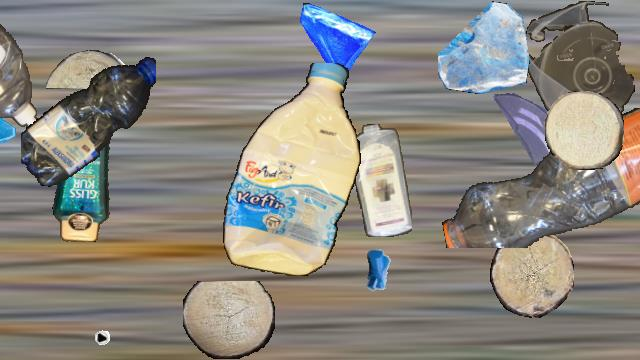glass: (438, 1, 530, 93), (489, 89, 573, 173), (294, 1, 376, 83), (0, 94, 19, 160)
metal: (348, 241, 410, 303), (57, 290, 117, 350)
plastic: (219, 63, 361, 275), (437, 108, 640, 248), (21, 50, 155, 190), (524, 1, 636, 133), (48, 99, 120, 241), (351, 124, 411, 236), (0, 1, 39, 131)
wood: (490, 232, 574, 318), (183, 281, 275, 359), (545, 91, 623, 169), (46, 50, 130, 88)
